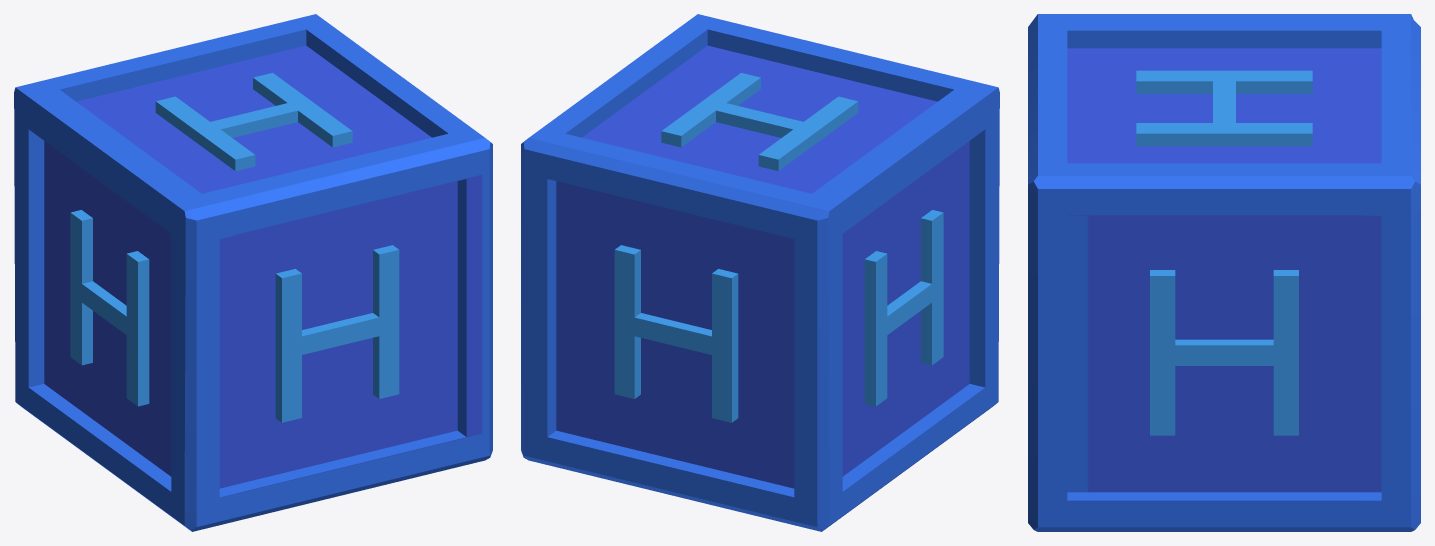
File: Hydrogen.fbx
The picture shows the model from 3 angles, left to right: view 1: azimuth 30°, elevation 25°; view 2: azimuth 150°, elevation 25°; view 3: azimuth 270°, elevation 25°; orthographic projection. The views are drawn at different scales.
Parts seen in each view (by area): view 1: H.001; view 2: H.001; view 3: H.001.
Boxes of the visible parts, left/top/right/bottom form: H.001: left=14, top=14, right=492, bottom=531; H.001: left=521, top=14, right=999, bottom=531; H.001: left=1028, top=14, right=1420, bottom=531.
Size of the model in its own units: 84.32 by 84.32 by 84.32.
